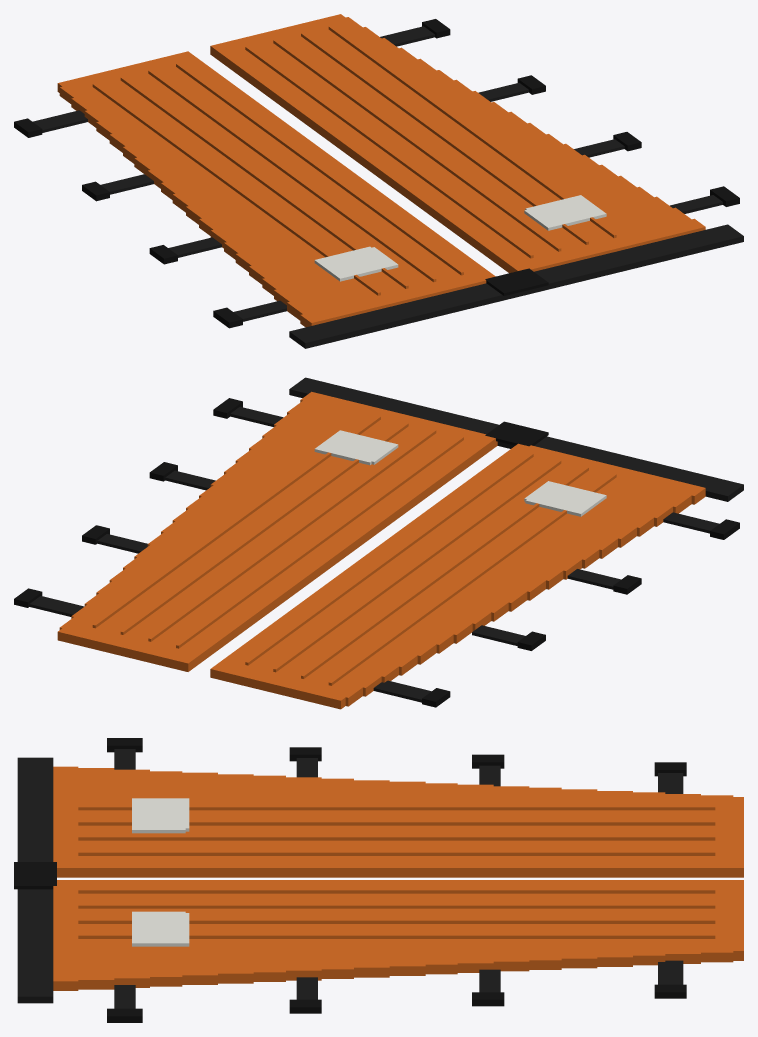
File: chaps_cut_resistant.glb
3 views of the same model, one above another, from view 1: azimuth 30°, elevation 25°; view 2: azimuth 150°, elevation 25°; view 3: azimuth 270°, elevation 25° (orthographic). The views are drawn at different scales.
Visible parts, largest first — view 1: chaps_cut_resistant:compound; view 2: chaps_cut_resistant:compound; view 3: chaps_cut_resistant:compound.
Part boxes in pixels (x1,y1,x2,y2): chaps_cut_resistant:compound: [14, 14, 743, 348]; chaps_cut_resistant:compound: [14, 377, 743, 709]; chaps_cut_resistant:compound: [14, 738, 743, 1022].
Size of the model in its own units: 0.736 by 0.016 by 0.816.
